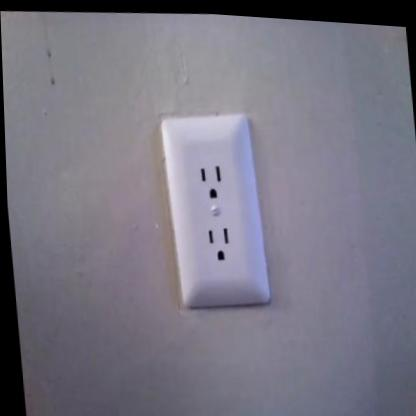OUTLET: (161, 113, 271, 310)
